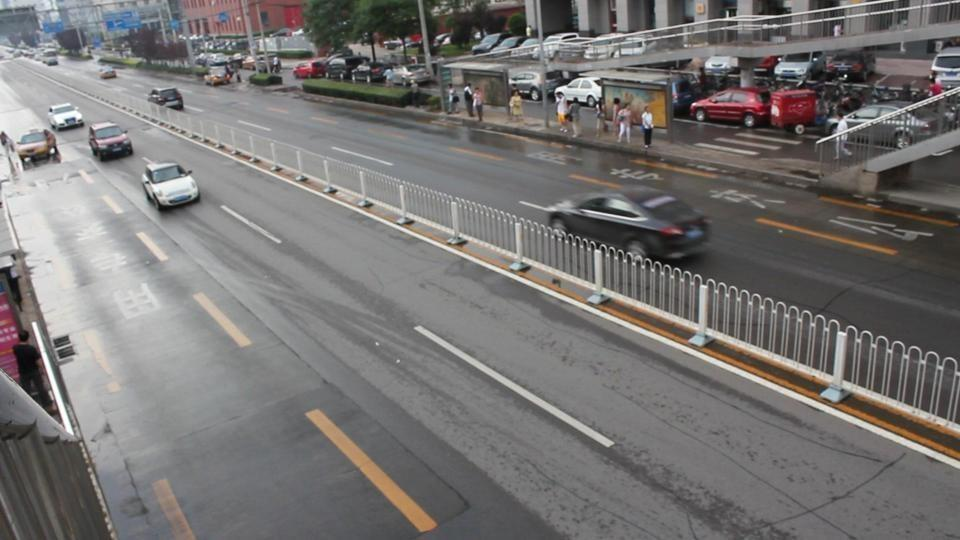car: (546, 184, 711, 262), (840, 105, 931, 150), (689, 88, 774, 127), (141, 160, 200, 211), (773, 51, 827, 87), (508, 69, 565, 101), (13, 128, 61, 166), (822, 49, 875, 83), (87, 122, 133, 161), (555, 78, 603, 105), (929, 47, 960, 88), (470, 33, 523, 56), (46, 102, 85, 131), (148, 85, 185, 110), (292, 60, 329, 79), (97, 66, 118, 79)
